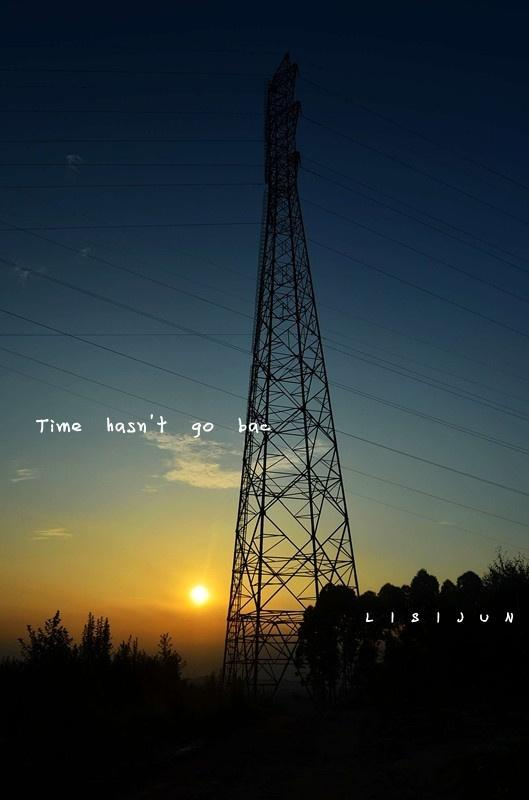power_tower: (225, 53, 374, 665)
